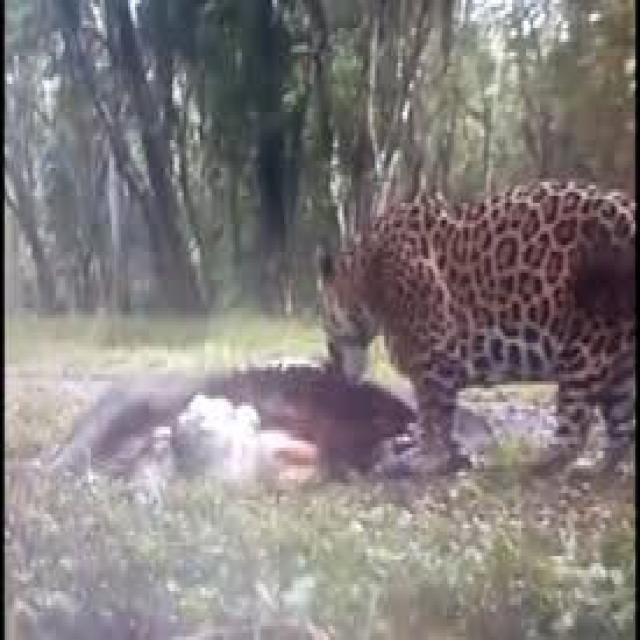Jaguar: (314, 175, 633, 486)
